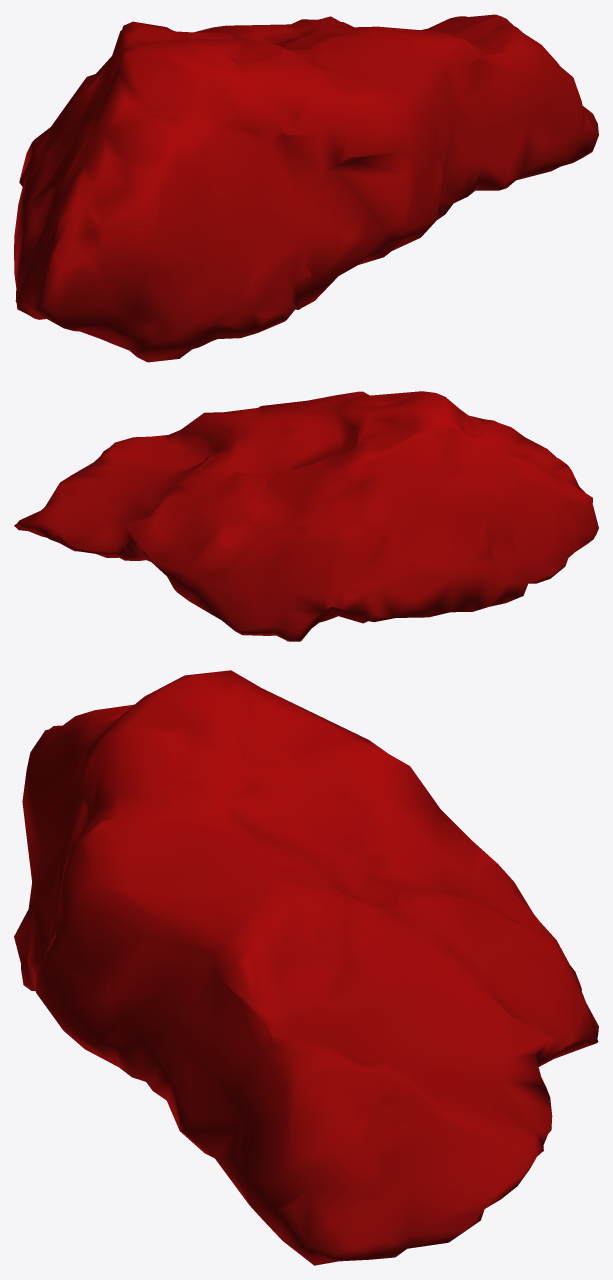
Rendered from mossrock_b_09.glb.
3 renders of one model, top to bottom at view 1: azimuth 30°, elevation 25°; view 2: azimuth 150°, elevation 25°; view 3: azimuth 270°, elevation 25°, orthographic. The views are drawn at different scales.
Visible parts, largest first — view 1: LOD0; view 2: LOD0; view 3: LOD0.
Part boxes in pixels (left/top/right/bottom): LOD0: left=14, top=14, right=598, bottom=362; LOD0: left=14, top=391, right=598, bottom=641; LOD0: left=14, top=670, right=598, bottom=1265.
Size of what is drawn, in the model's own units: 1.63 by 0.6099 by 1.01.
